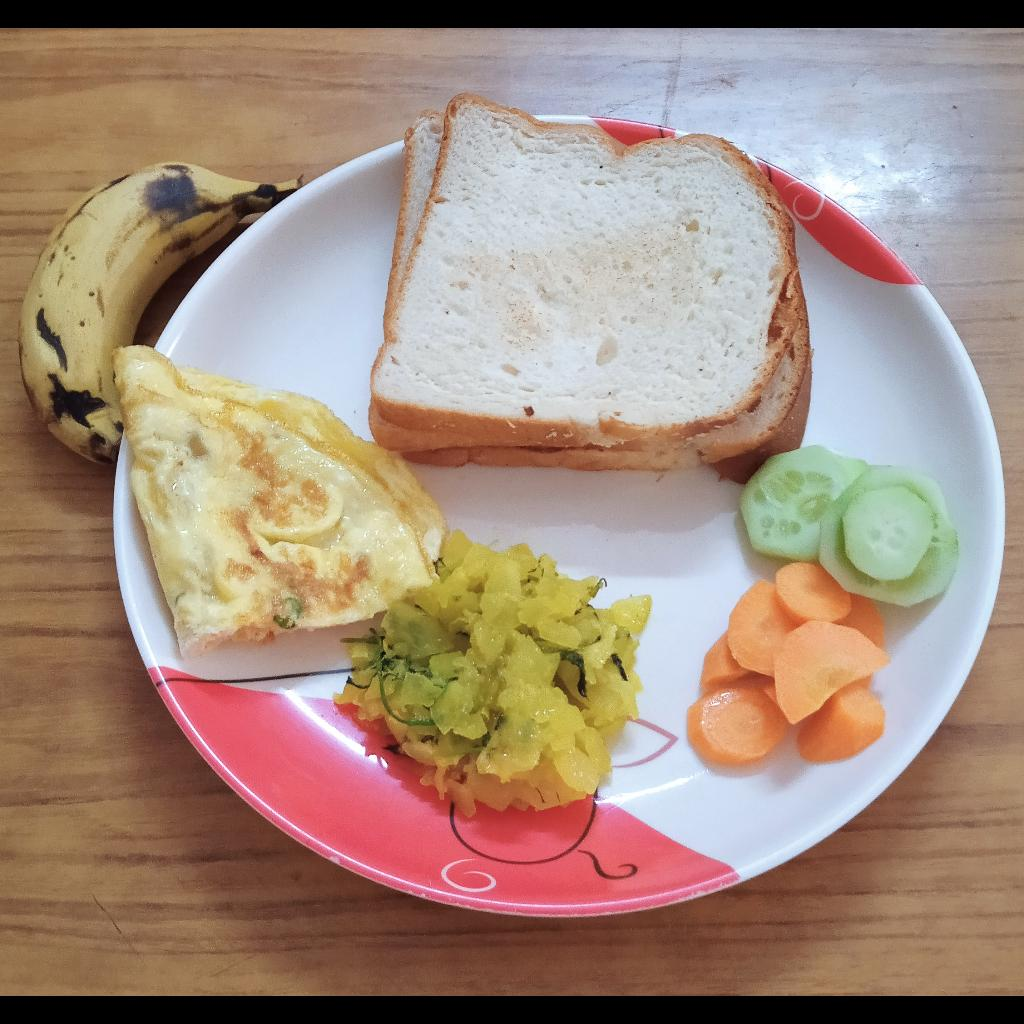banana: (18, 162, 304, 467)
bread: (369, 94, 813, 482)
carrot: (687, 564, 894, 765)
cucumber: (738, 446, 961, 607)
egg-poached: (113, 345, 445, 668)
papaya: (339, 533, 654, 819)
